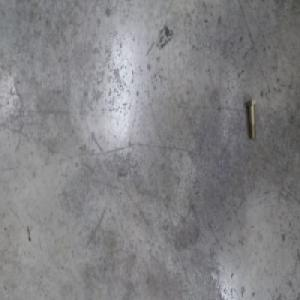Bolt: (246, 98, 257, 139)
